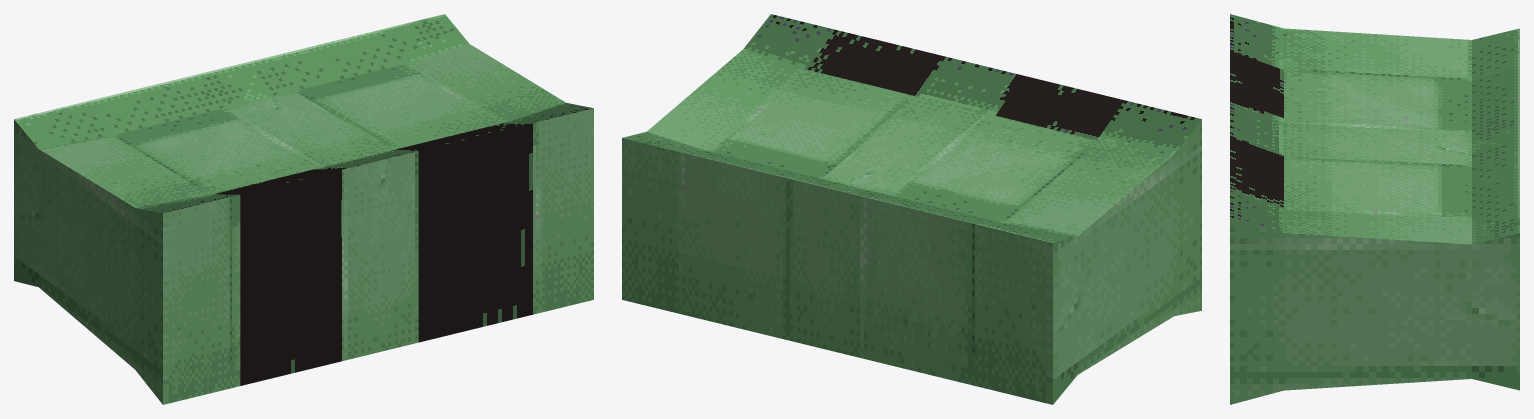
Rendered from Road_Block_-_Green.glb.
The picture shows the model from 3 angles, left to right: view 1: azimuth 30°, elevation 25°; view 2: azimuth 150°, elevation 25°; view 3: azimuth 270°, elevation 25°; orthographic projection. The views are drawn at different scales.
Parts seen in each view (by area): view 1: Road Block - Green; view 2: Road Block - Green; view 3: Road Block - Green.
Part boxes in pixels (x1=…): Road Block - Green: x1=14, y1=14, x2=593, y2=404; Road Block - Green: x1=622, y1=14, x2=1201, y2=404; Road Block - Green: x1=1230, y1=14, x2=1519, y2=404.
Bounding box in the file's own units: 0.462 × 0.1963 × 0.2766.
Materials: 1 (1 with a texture image).
